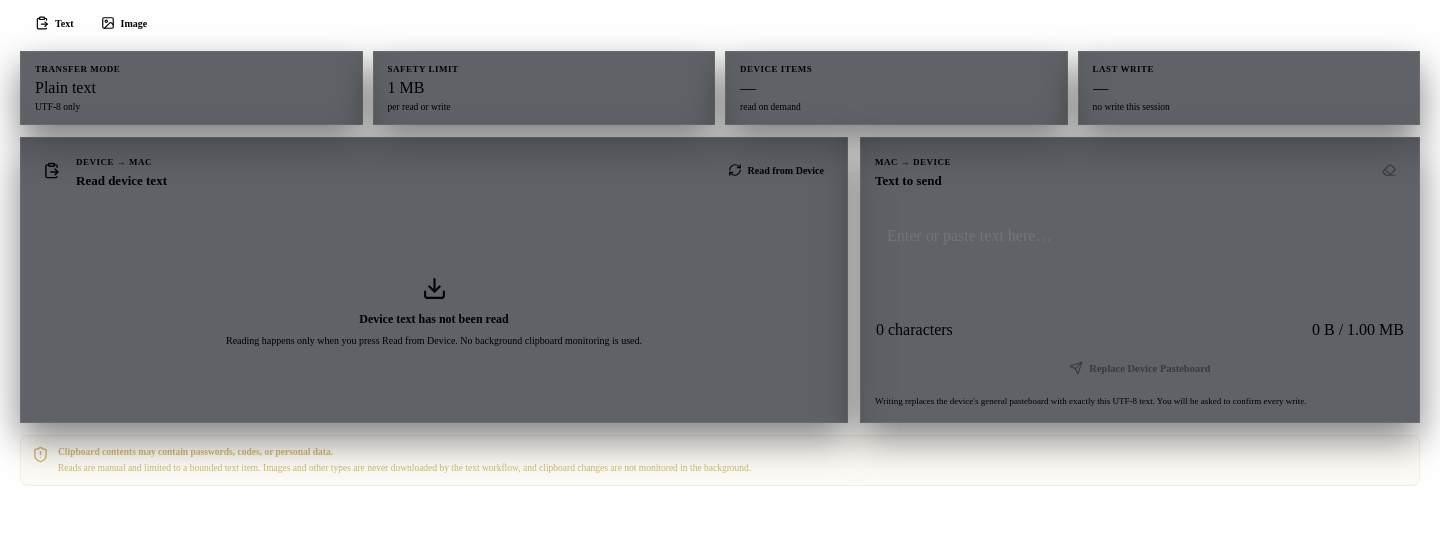
Test: Pasteboard transfer › shows a bounded non-text result without inventing clipboard text
What coordinates should you click on to do the following:
click the button "Read from Device"
I would click on:
 (776, 170)
Its box is 718,156 -> 833,184.
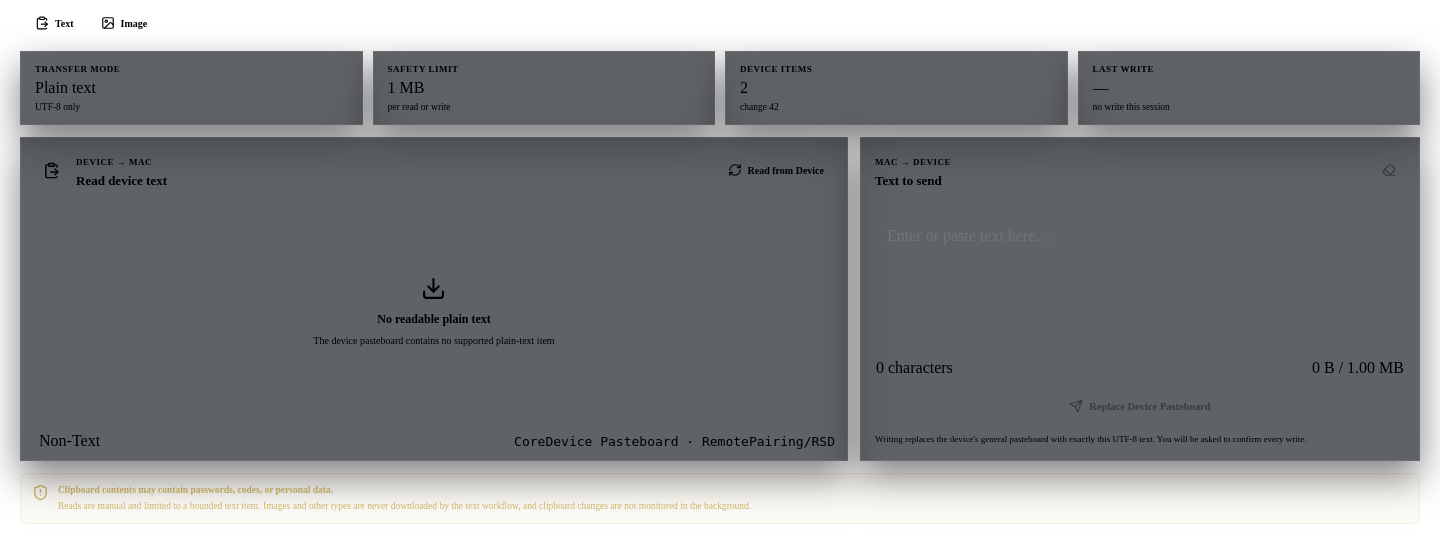
Expected: the text "No readable plain text" is shown, 377,312 -> 491,327
Expected: the text "The device pasteboard contains no supported plain-text item" is shown, 313,333 -> 555,348
